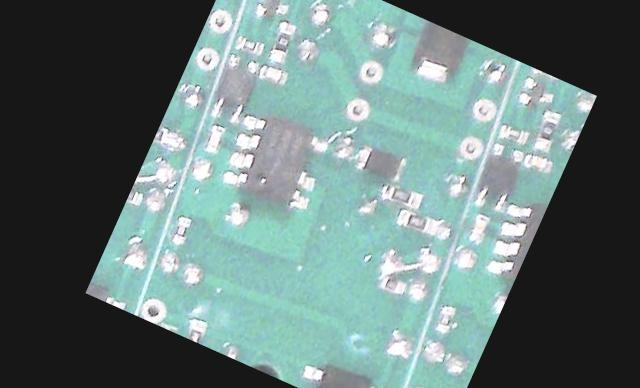chip-capacitor: (463, 208, 494, 247), (197, 121, 227, 156), (254, 60, 290, 87), (522, 149, 554, 175)
chip-resistor: (262, 16, 301, 67), (392, 205, 440, 239), (528, 110, 564, 154), (379, 181, 422, 212), (165, 211, 196, 249), (429, 301, 459, 336), (230, 31, 266, 59), (494, 120, 530, 148), (180, 312, 211, 344), (373, 268, 407, 297), (528, 66, 558, 81)
diode: (399, 17, 470, 89), (349, 137, 409, 184)
ic: (213, 102, 335, 218), (200, 48, 265, 127), (466, 137, 529, 215), (290, 348, 394, 388)
transistor: (512, 72, 559, 117), (247, 0, 293, 27)
